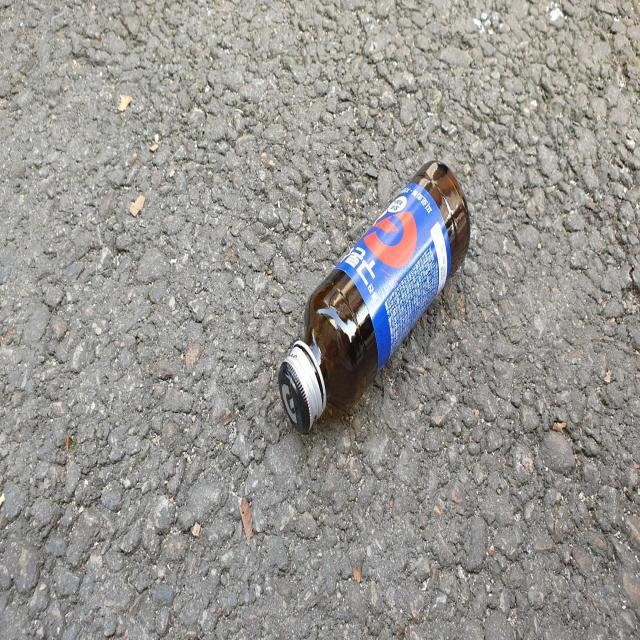glass: (279, 160, 471, 433)
